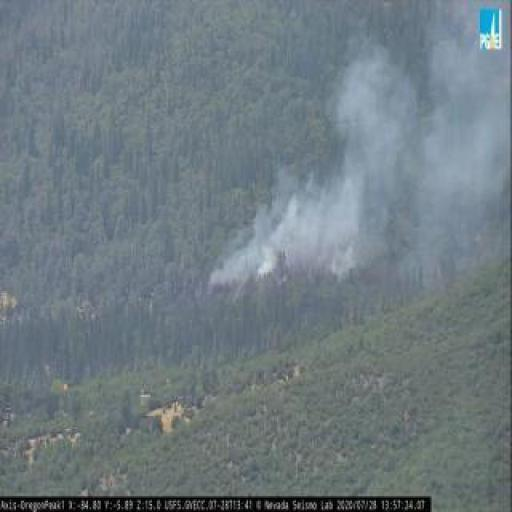smoke: (198, 70, 510, 304)
